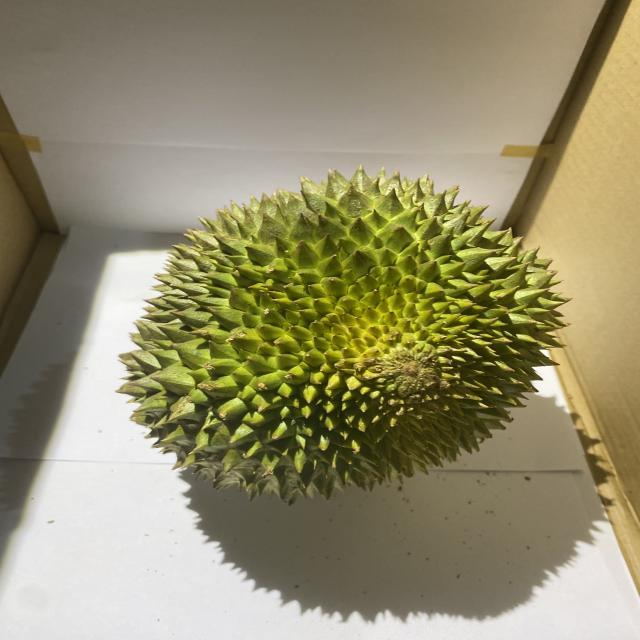immature: (108, 156, 574, 507)
